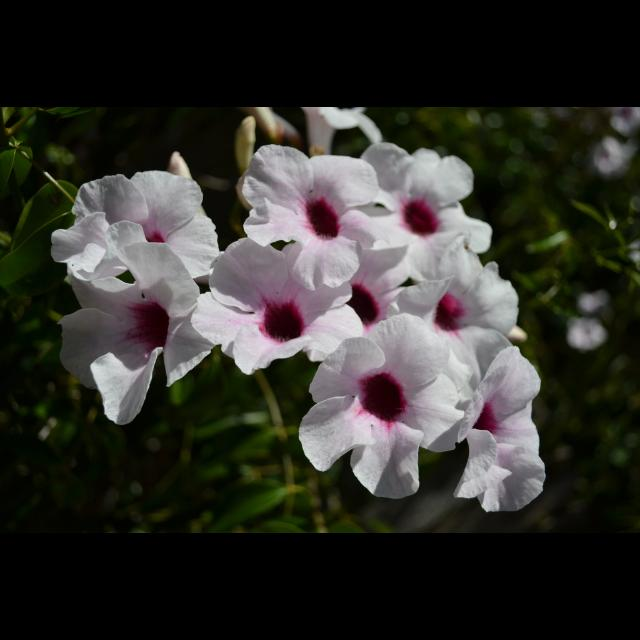Flower: (47, 107, 553, 521), (300, 328, 484, 500)
